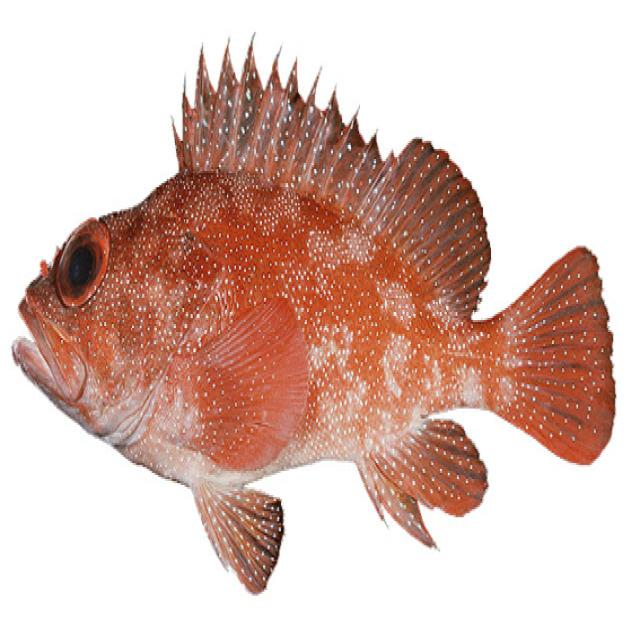ikan: (11, 30, 616, 596)
